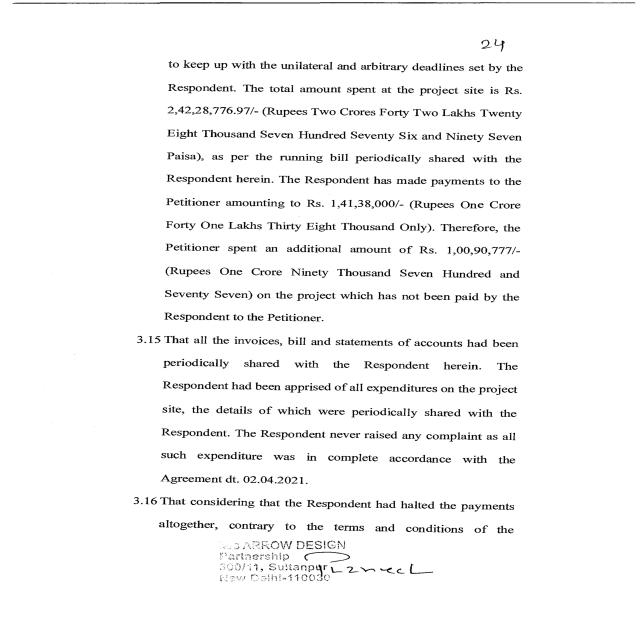page-number: (442, 17, 638, 61)
